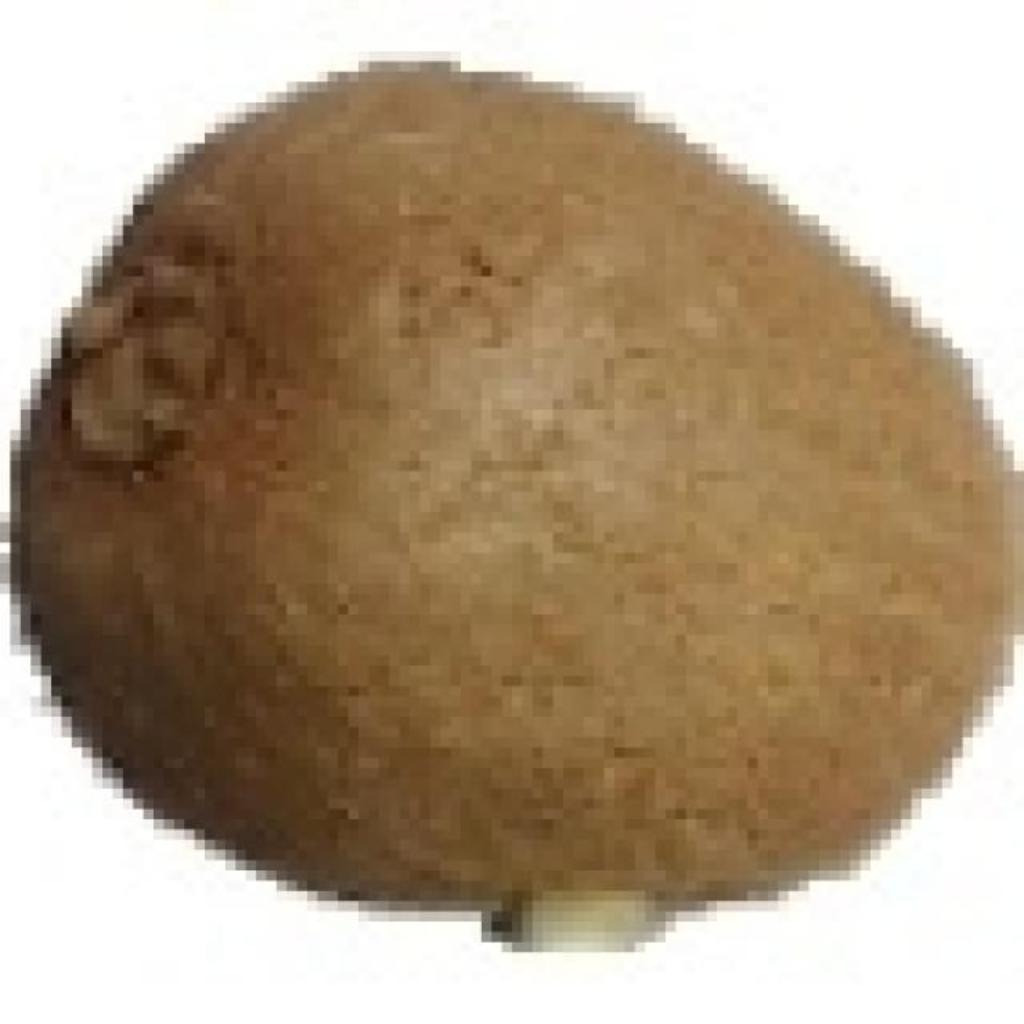kiwi: (31, 51, 1024, 922)
